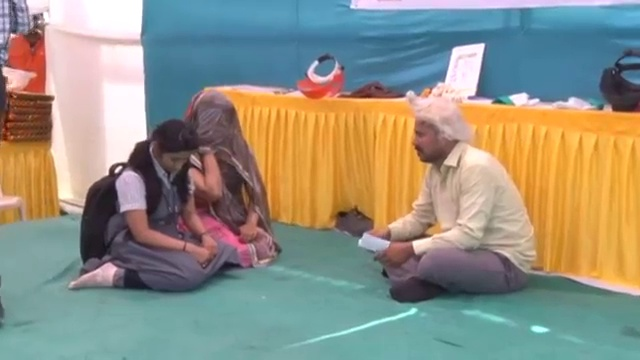helmet: (0, 65, 39, 97)
helmet_off: (403, 99, 470, 171), (144, 115, 201, 182), (187, 90, 243, 152)
person: (359, 94, 547, 309), (72, 121, 224, 298), (159, 88, 276, 268), (0, 0, 48, 96)
